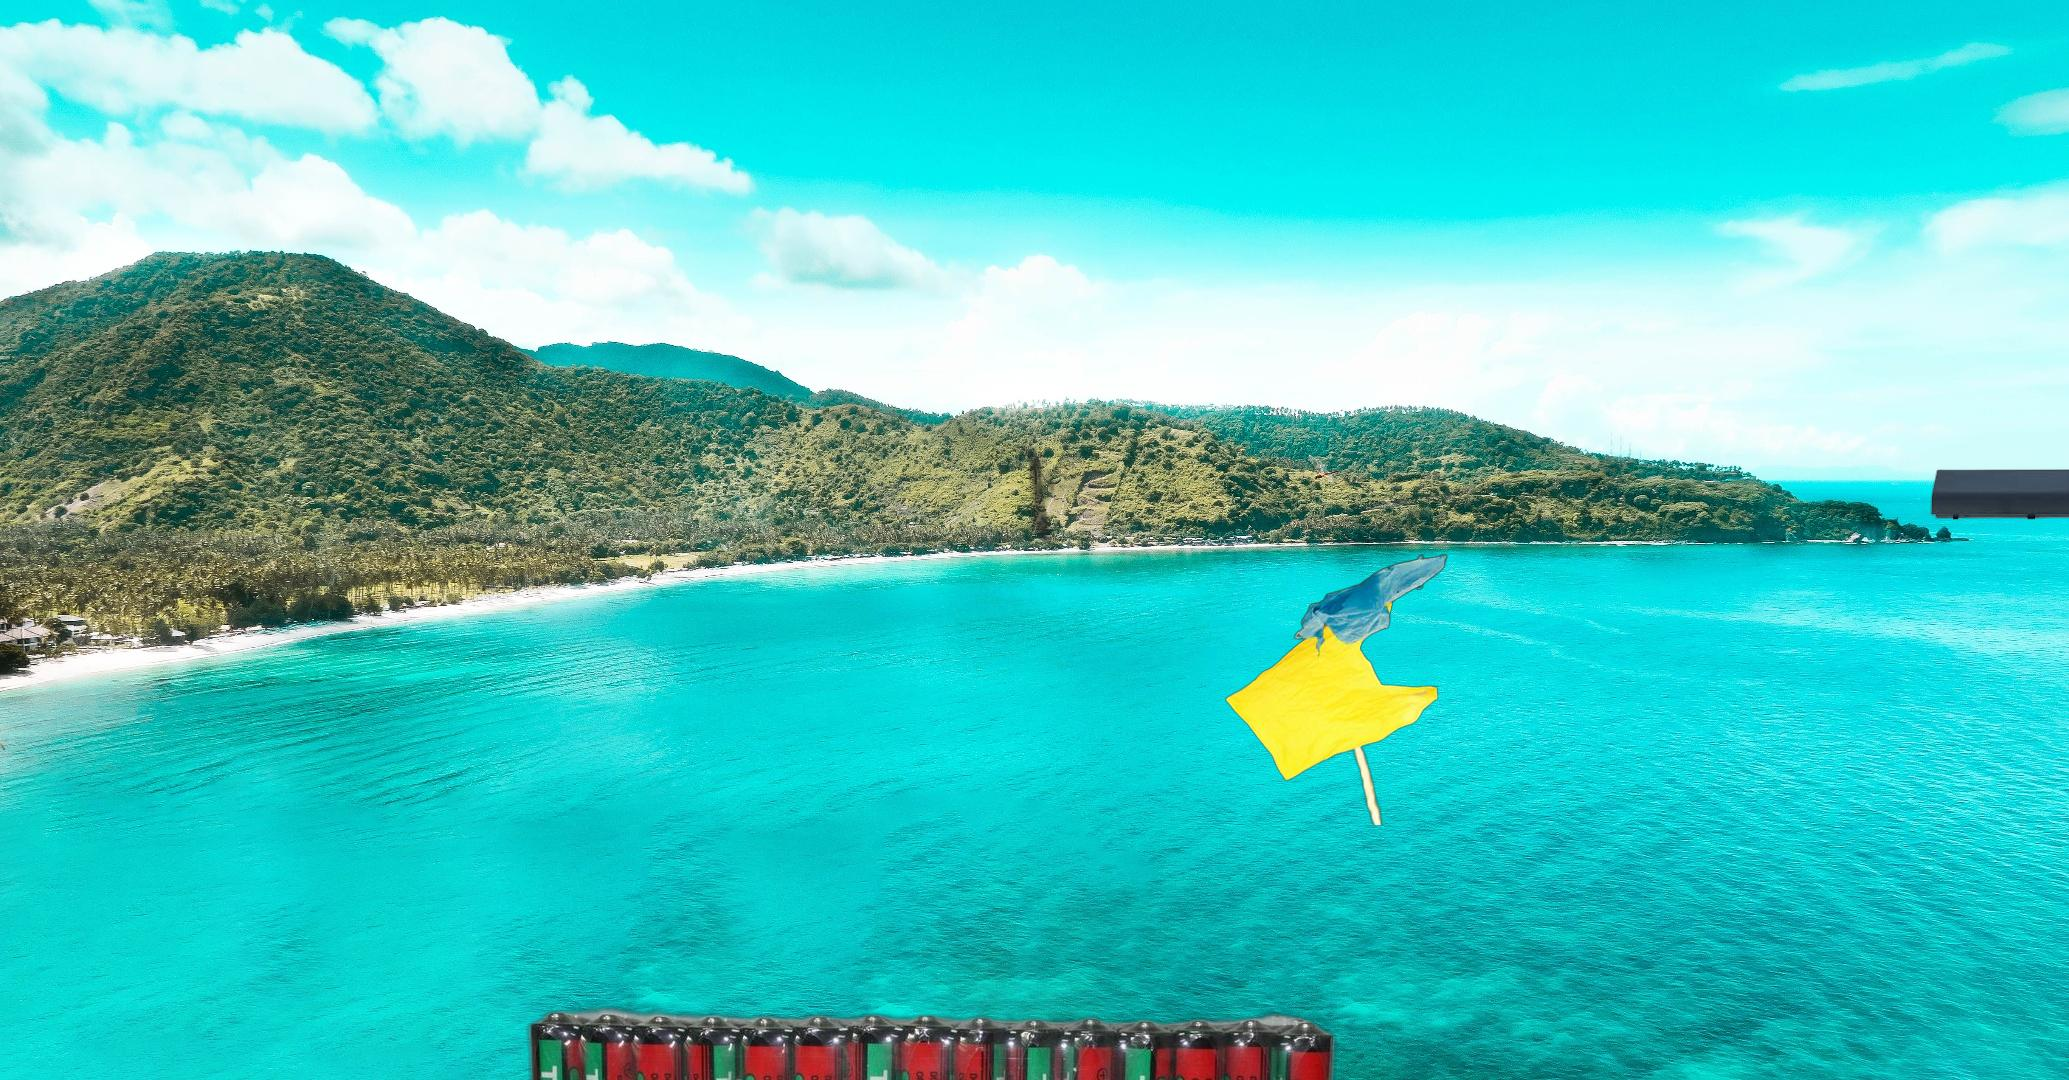battery: (389, 1001, 1483, 1080), (1929, 467, 2069, 522)
biological: (935, 443, 1260, 684)
plastic-bag: (1222, 552, 1450, 825)
plastic-bottles: (447, 872, 645, 1080)
